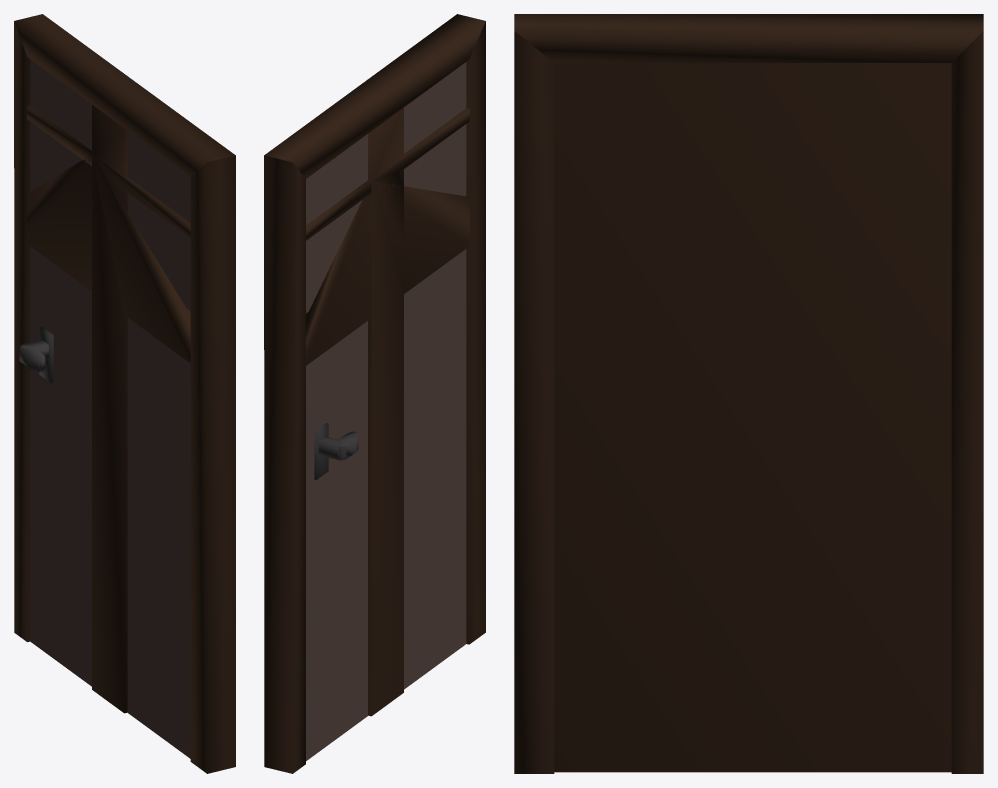
File: porte_archives.glb
3 views of the same model, side by side, from view 1: azimuth 30°, elevation 25°; view 2: azimuth 150°, elevation 25°; view 3: azimuth 270°, elevation 25° (orthographic). The views are drawn at different scales.
Parts seen in each view (by area): view 1: porte_archives; view 2: porte_archives; view 3: porte_archives.
Part boxes in pixels (box(x1,y1,x2,y2)): porte_archives: box(14, 14, 235, 773); porte_archives: box(264, 14, 485, 773); porte_archives: box(514, 14, 983, 773).
Bounding box in the file's own units: 0.1987 × 2.2 × 1.26.
